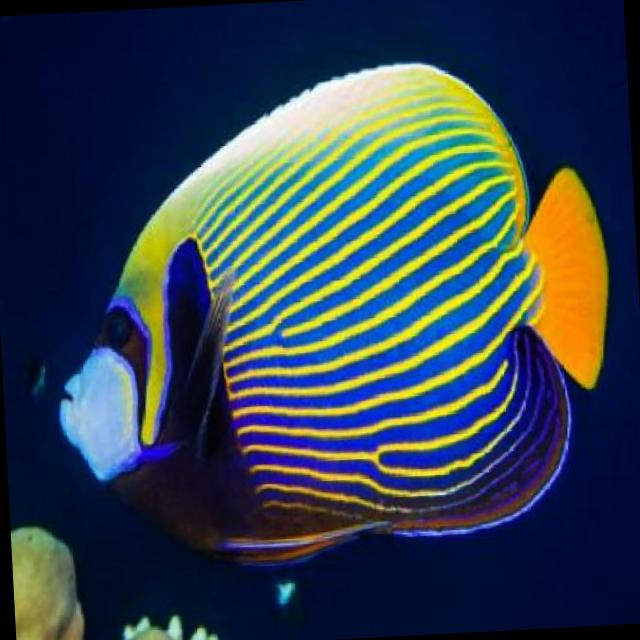AngelFish: (41, 50, 624, 568)
